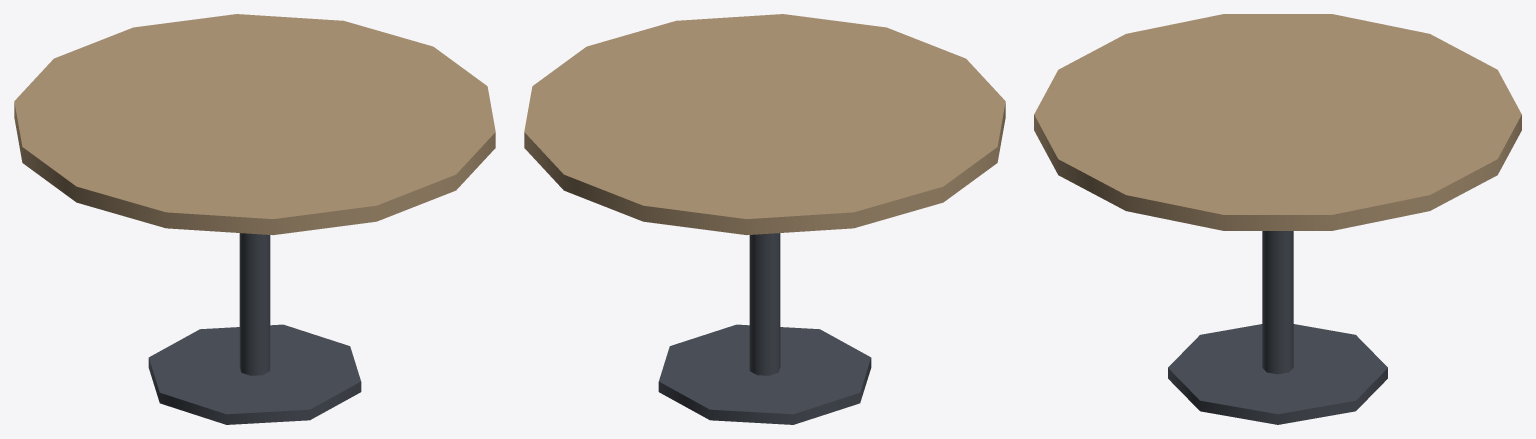
Rendered from mesa-reuniao-redonda.glb.
3 renders of one model, left to right at view 1: azimuth 30°, elevation 25°; view 2: azimuth 150°, elevation 25°; view 3: azimuth 270°, elevation 25°, orthographic.
Parts seen in each view (by area): view 1: mesa-reuniao-redonda_malha; view 2: mesa-reuniao-redonda_malha; view 3: mesa-reuniao-redonda_malha.
Part boxes in pixels (box(x1,y1,x2,y2)): mesa-reuniao-redonda_malha: box(14, 14, 495, 424); mesa-reuniao-redonda_malha: box(524, 14, 1005, 424); mesa-reuniao-redonda_malha: box(1034, 14, 1521, 424).
Size of the model in its own units: 1.21 by 0.7405 by 1.24.
